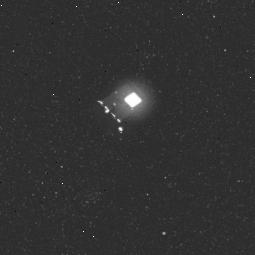proba_3_ocs: (89, 70, 147, 130)
